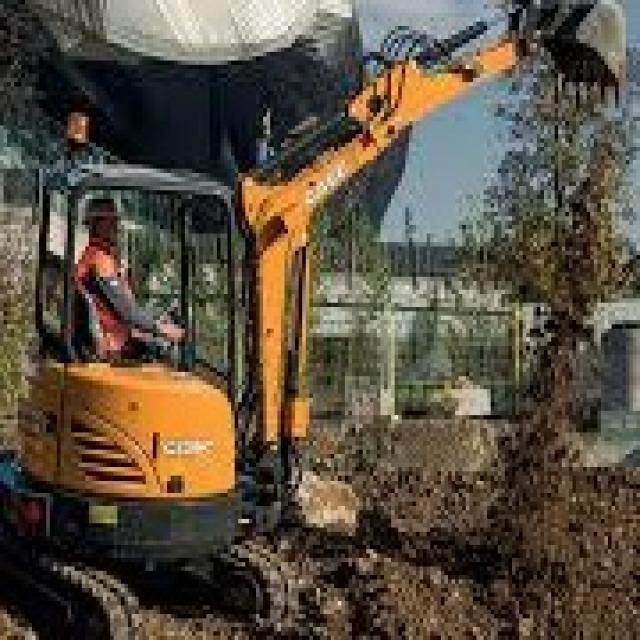excavator: (1, 163, 374, 625)
